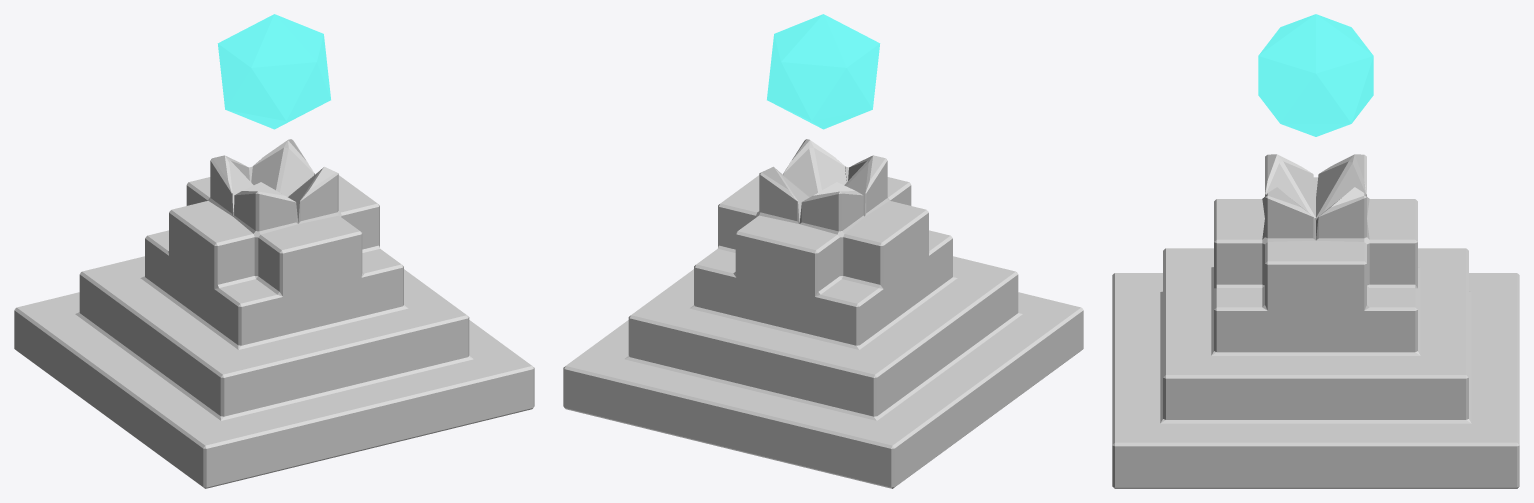
The model's file is Temple.glb.
3 views of the same model, side by side, from view 1: azimuth 30°, elevation 25°; view 2: azimuth 150°, elevation 25°; view 3: azimuth 270°, elevation 25° (orthographic). The views are drawn at different scales.
Visible parts, largest first — view 1: Temple, Gem; view 2: Temple, Gem; view 3: Temple, Gem.
Boxes of the visible parts, x1,y1,x2,y2 form: Temple: (14,139,534,488); Gem: (217,14,330,129); Temple: (563,139,1083,488); Gem: (767,14,880,129); Temple: (1112,154,1519,488); Gem: (1258,14,1373,136).
Size of the model in its own units: 30 by 31.67 by 30.
